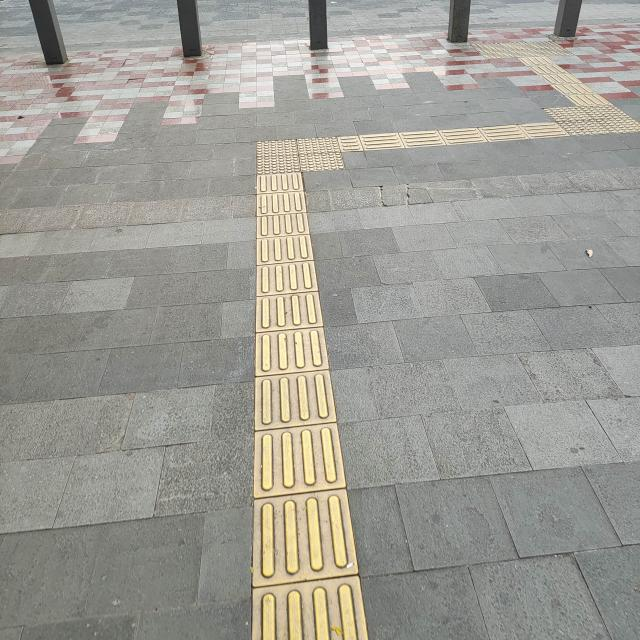kanan: (225, 104, 431, 200)
